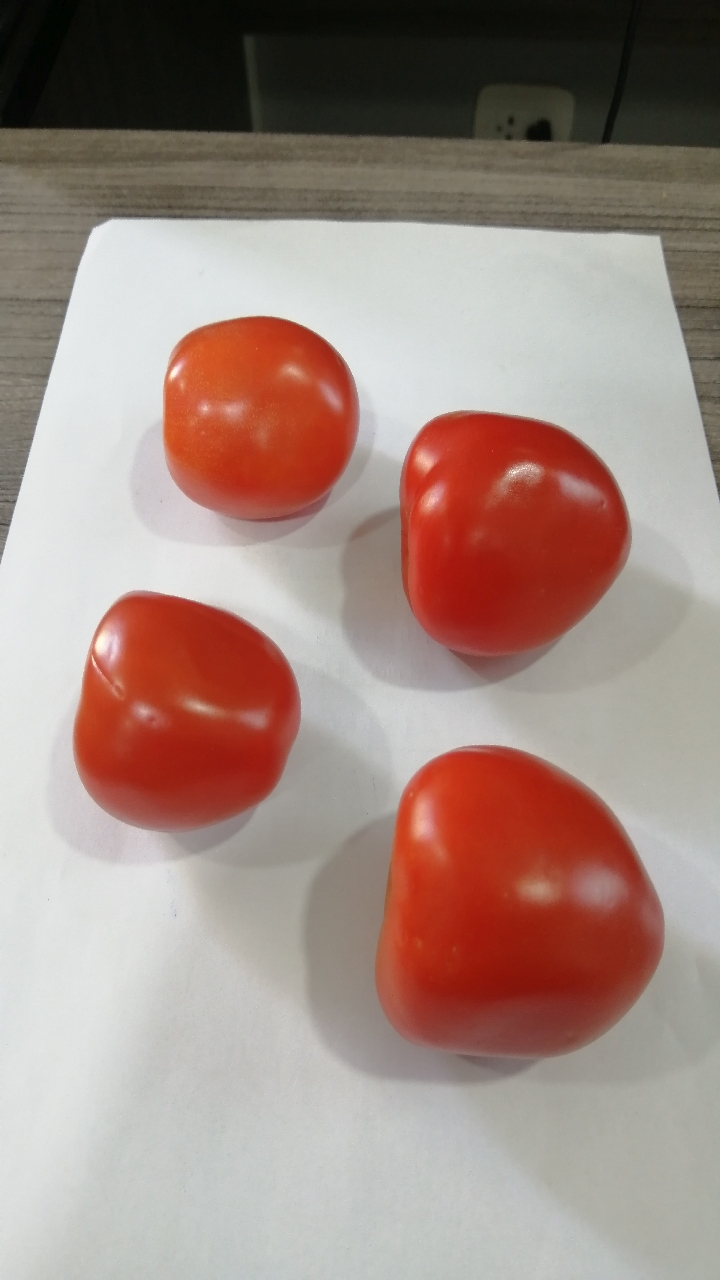tomateRojo: (341, 731, 681, 1100), (380, 391, 646, 685), (40, 574, 320, 848), (154, 289, 374, 542)
